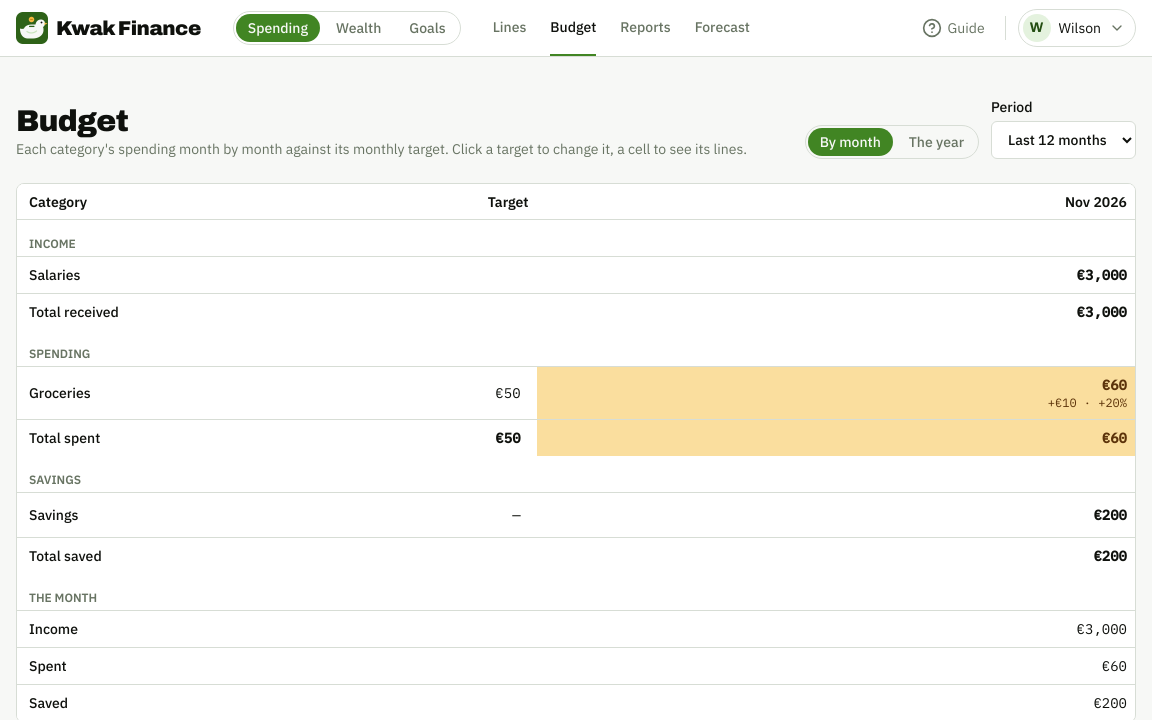
it: a target set from a past month says which months take it
Click the button named "Target of Groceries" at [508, 393], box [487,379,528,407]
(page scrolled)
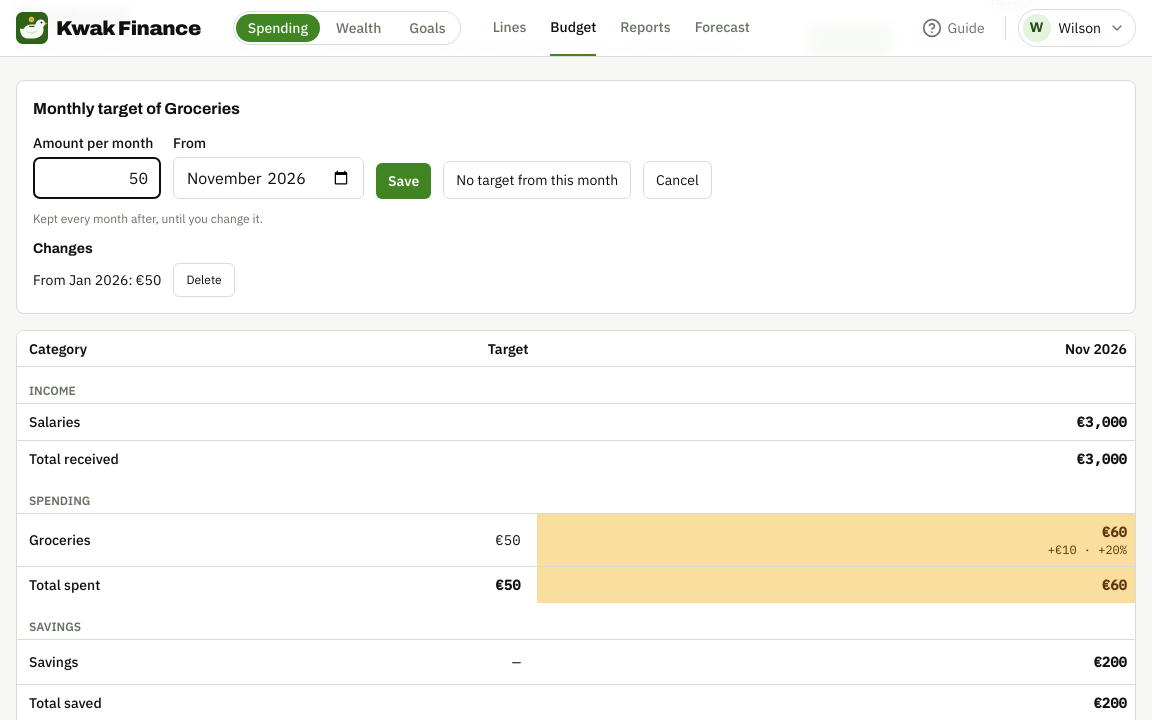
Replace the text in the field labelled "From" with "2025-03" at [268, 178], box [173,157,364,199]
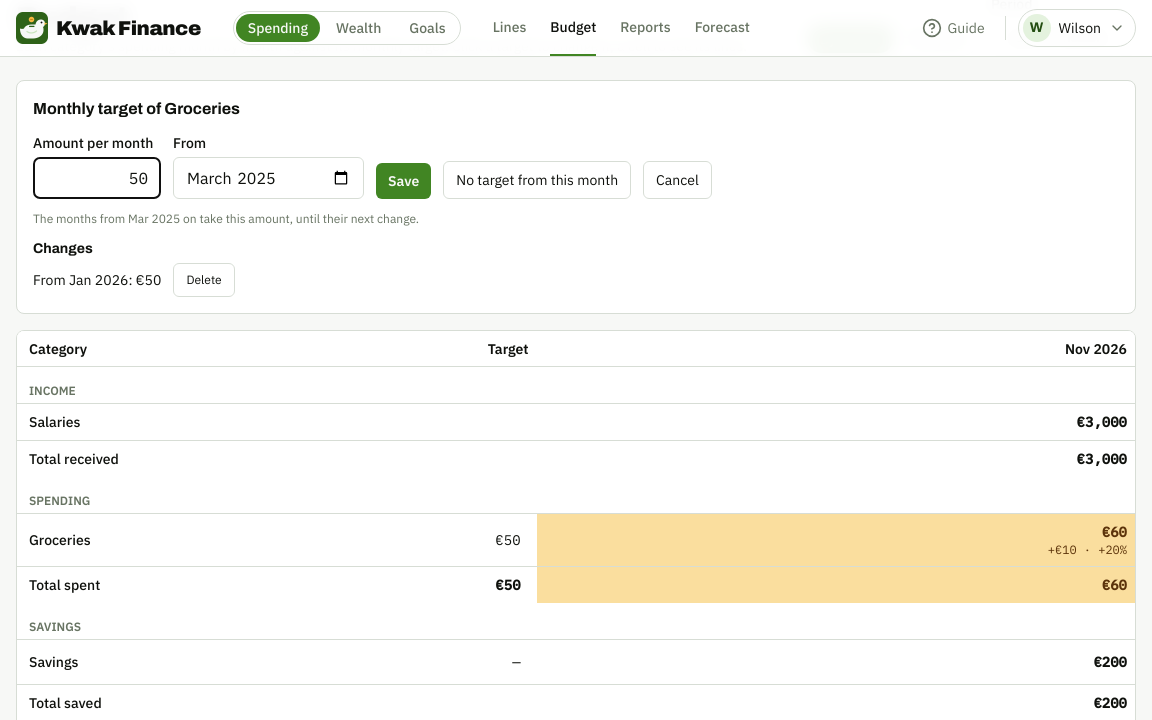
expect the text "From Jan 2026: €50" is shown: met, box [33,270,161,290]
expect the text "The months from Mar 2025 on take this amount" is shown: met, box [33,211,419,226]
